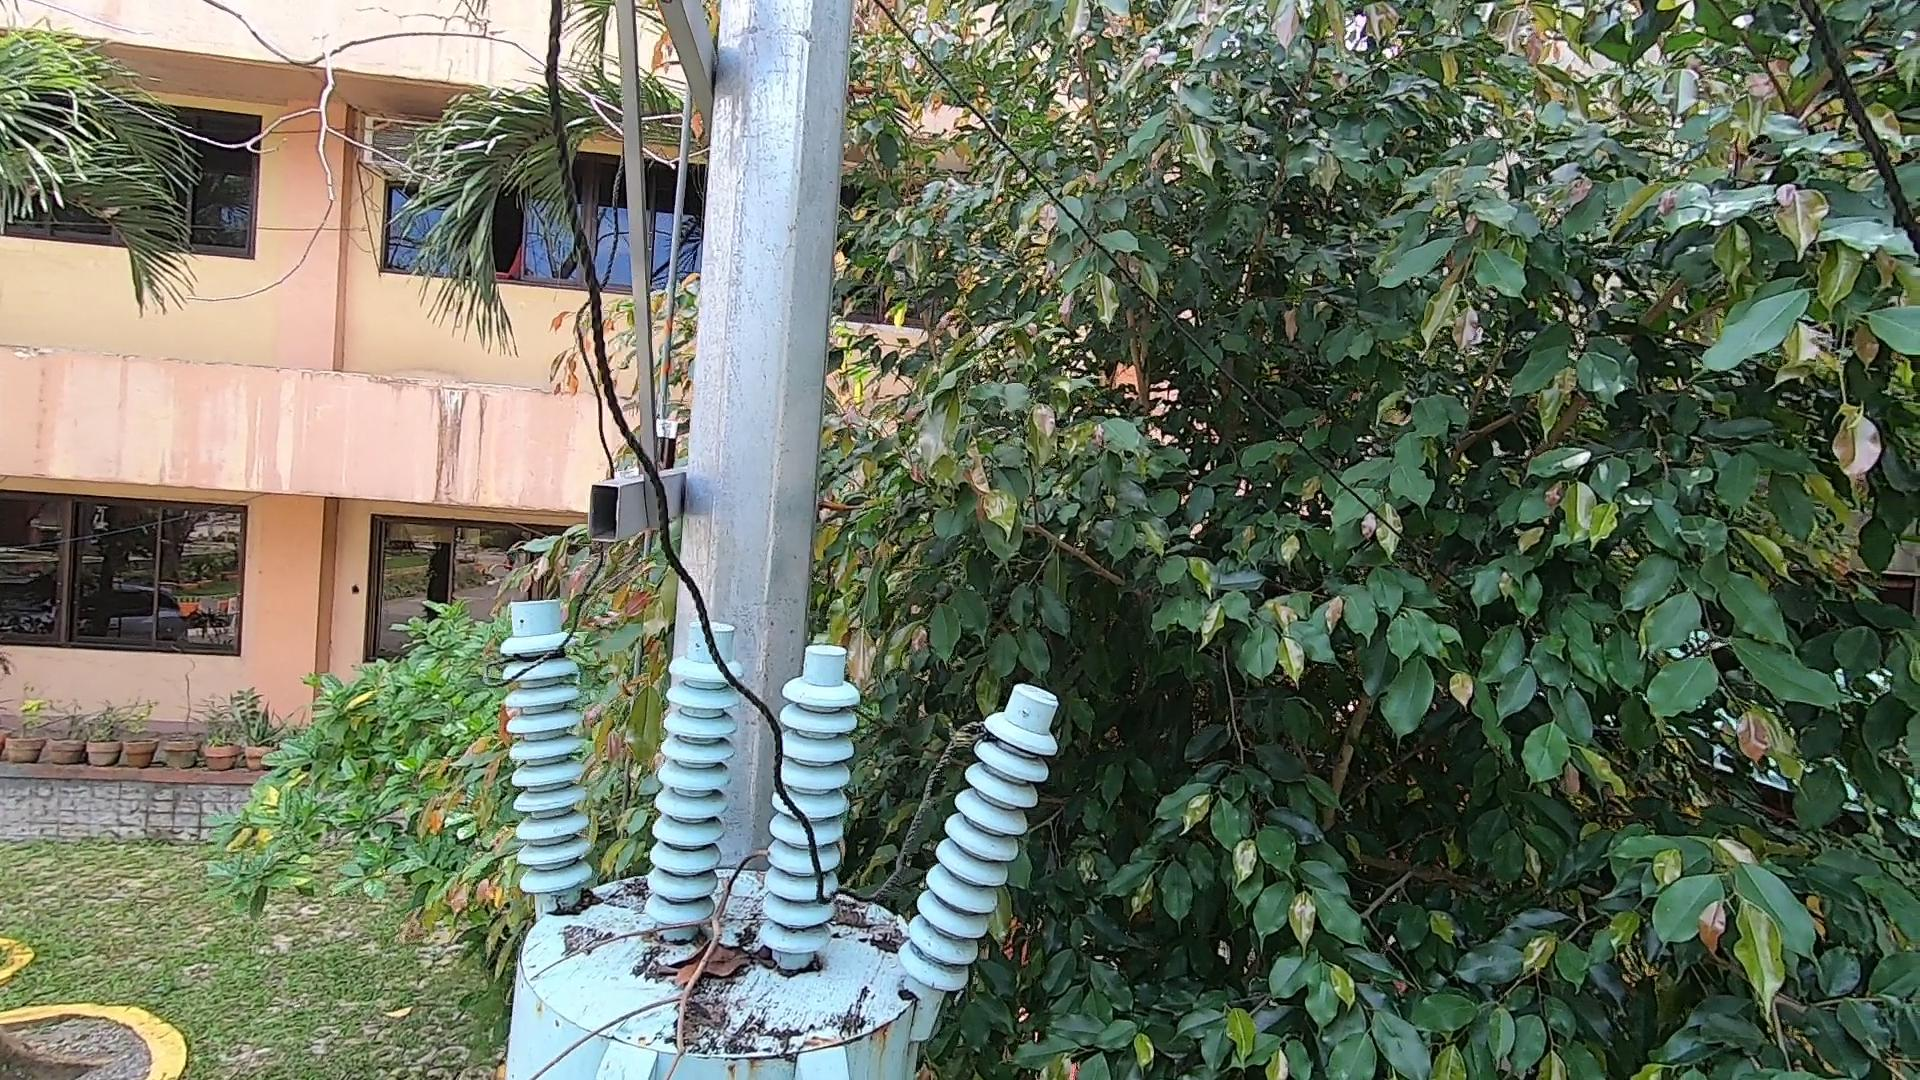leaf: (659, 934, 774, 1007), (833, 898, 899, 963), (545, 885, 603, 920)
tree branch: (535, 804, 770, 1080)
